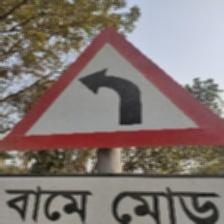Left-Turn: (0, 28, 222, 224)
